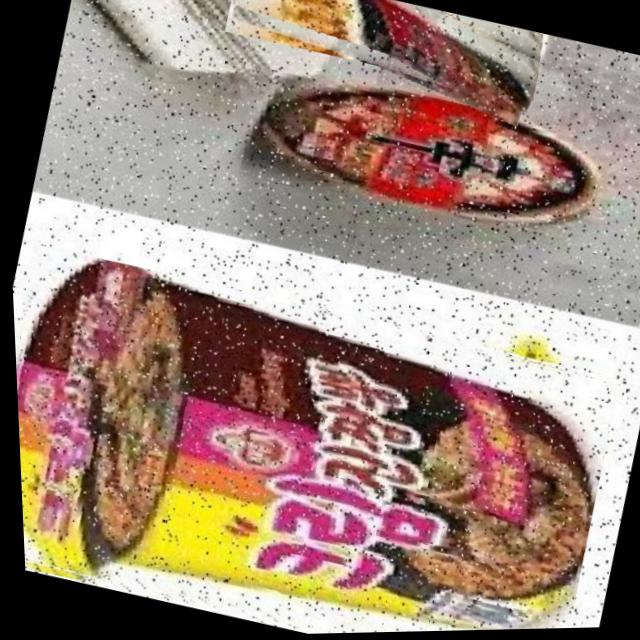Miscellaneous: (8, 232, 624, 640), (217, 0, 546, 121)
